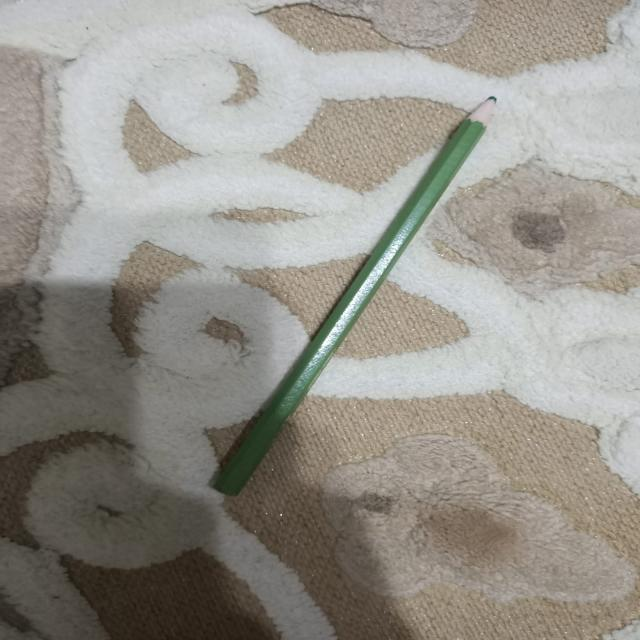pencil: (211, 96, 496, 496)
